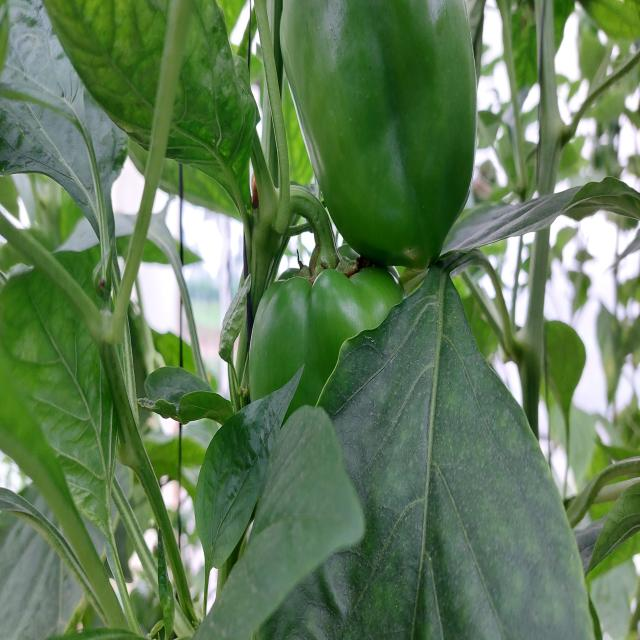Green--Not-ready-to-harvest: (279, 4, 480, 268), (248, 266, 401, 416)
